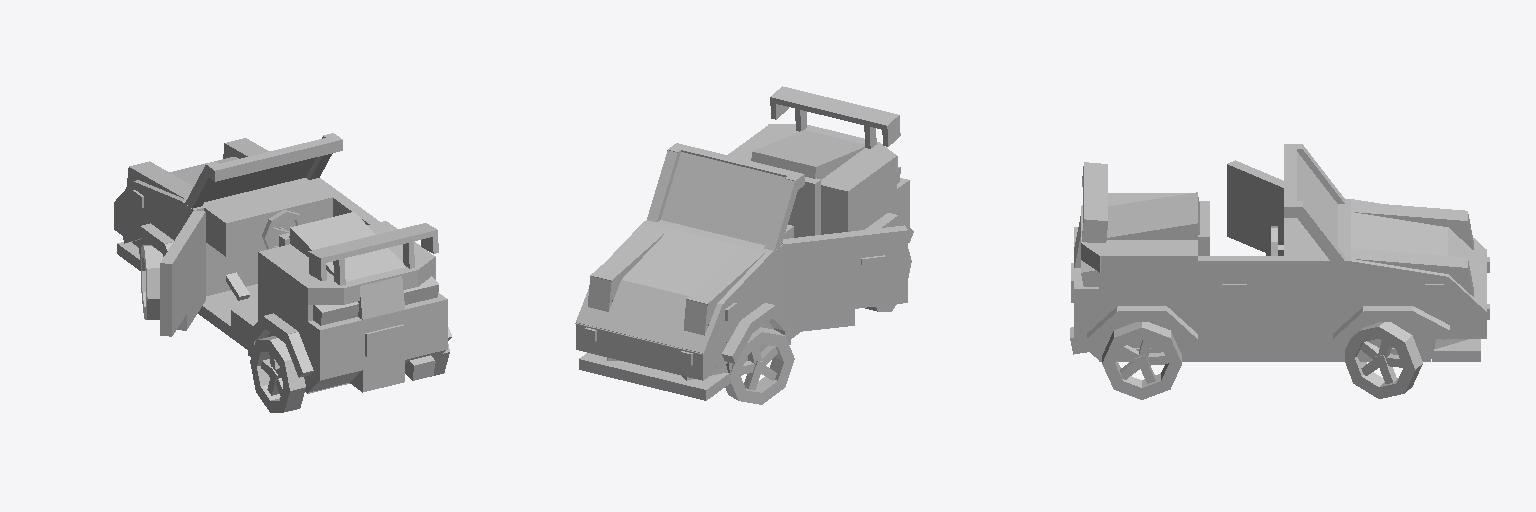
3 views of the same model, side by side, from view 1: azimuth 30°, elevation 25°; view 2: azimuth 150°, elevation 25°; view 3: azimuth 270°, elevation 25° (orthographic).
Parts seen in each view (by area): view 1: back, main, front_panel, windshield, left_door, spoiler, backLwheel, front1, outer2, frontLwheel, front_left1, license_plate (+8 smaller); view 2: windshield, left_door, back, main, front1, front2, frontLwheel, spoiler, front_left1, front_right1, outer1, seat (+2 smaller); view 3: back, right_door, front1, main, windshield, backRwheel, left_door, frontRwheel, front2, outer4, outer3, spoiler (+4 smaller).
Part boxes in pixels (bbox=[...]): back: bbox=[258, 212, 447, 393]; main: bbox=[114, 178, 320, 349]; front_panel: bbox=[204, 182, 332, 256]; windshield: bbox=[185, 133, 342, 208]; left_door: bbox=[160, 210, 205, 336]; spoiler: bbox=[308, 223, 438, 285]; backLwheel: bbox=[250, 336, 305, 412]; front1: bbox=[133, 157, 238, 264]; outer2: bbox=[248, 313, 313, 377]; frontLwheel: bbox=[141, 245, 163, 319]; front_left1: bbox=[129, 161, 193, 199]; license_plate: bbox=[365, 324, 403, 356]; windshield: bbox=[647, 143, 804, 250]; left_door: bbox=[782, 225, 907, 332]; back: bbox=[728, 124, 909, 234]; main: bbox=[576, 220, 799, 400]; front1: bbox=[611, 222, 776, 373]; front2: bbox=[575, 280, 734, 367]; frontLwheel: bbox=[725, 327, 794, 404]; spoiler: bbox=[770, 86, 900, 148]; front_left1: bbox=[687, 247, 764, 325]; front_right1: bbox=[590, 224, 668, 301]; outer1: bbox=[722, 303, 790, 363]; seat: bbox=[788, 177, 820, 237]; back: bbox=[1074, 192, 1199, 361]; right_door: bbox=[1198, 256, 1326, 350]; front1: bbox=[1339, 199, 1447, 358]; main: bbox=[1134, 199, 1486, 361]; windshield: bbox=[1284, 144, 1344, 260]; backRwheel: bbox=[1102, 322, 1181, 399]; left_door: bbox=[1227, 160, 1283, 255]; frontRwheel: bbox=[1345, 322, 1422, 398]; front2: bbox=[1425, 227, 1486, 335]; outer4: bbox=[1333, 306, 1449, 360]; outer3: bbox=[1087, 306, 1197, 360]; spoiler: bbox=[1082, 162, 1107, 242].
Size of the model in its own units: 44.27 by 33.33 by 68.21.